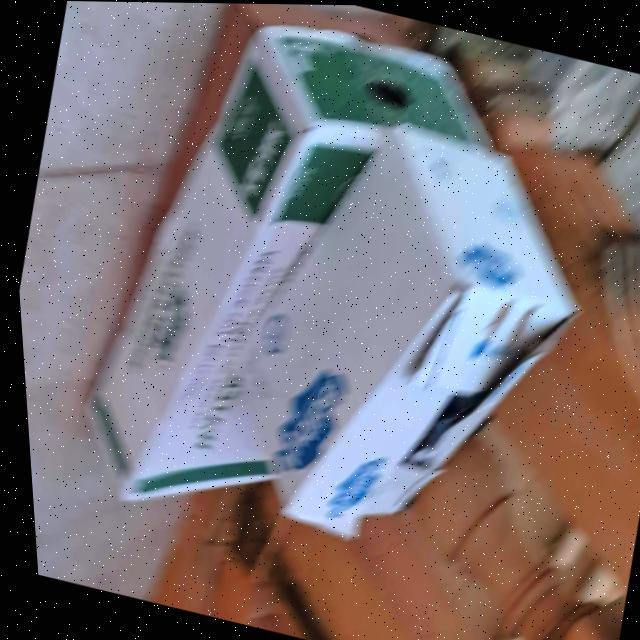Other: (34, 1, 640, 603)
